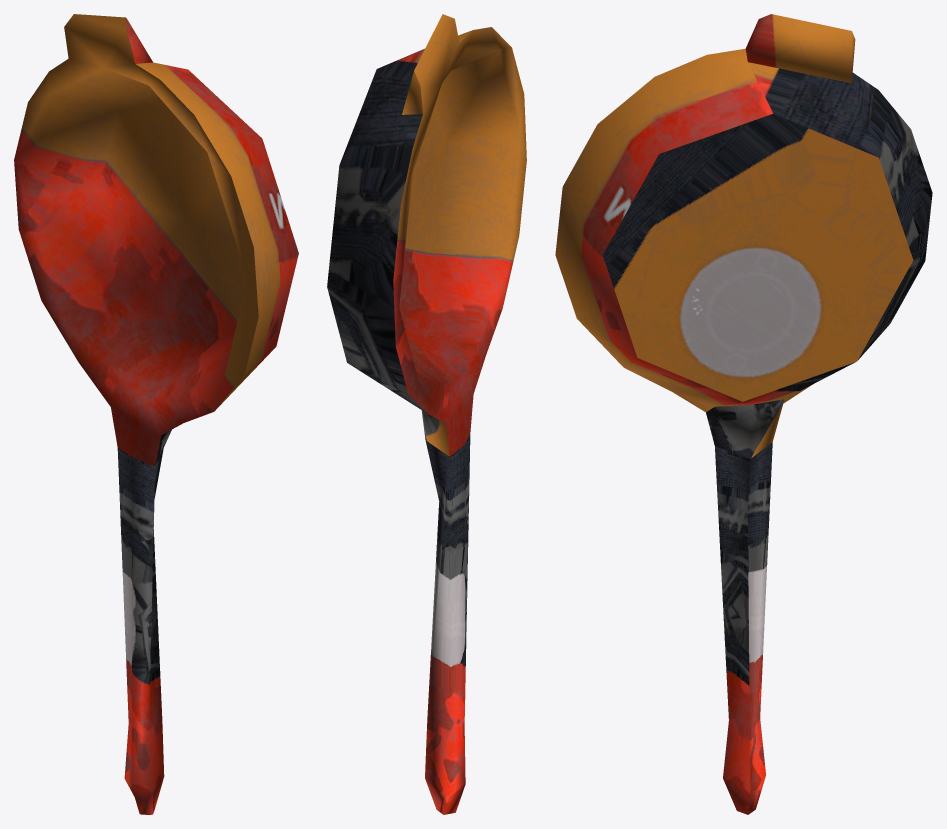
The model's file is Melee_Prop_Cylinder_lod2_LOD_(000837).glb.
The picture shows the model from 3 angles, left to right: view 1: azimuth 30°, elevation 25°; view 2: azimuth 150°, elevation 25°; view 3: azimuth 270°, elevation 25°; orthographic projection. The views are drawn at different scales.
Visible parts, largest first — view 1: Cylinder_lod2; view 2: Cylinder_lod2; view 3: Cylinder_lod2.
Part boxes in pixels (x1,y1,x2,y2): Cylinder_lod2: (14, 14, 298, 814); Cylinder_lod2: (327, 14, 526, 814); Cylinder_lod2: (555, 14, 932, 814).
Bounding box in the file's own units: 0.1267 × 0.791 × 0.3397.
1 material, 1 textured.
